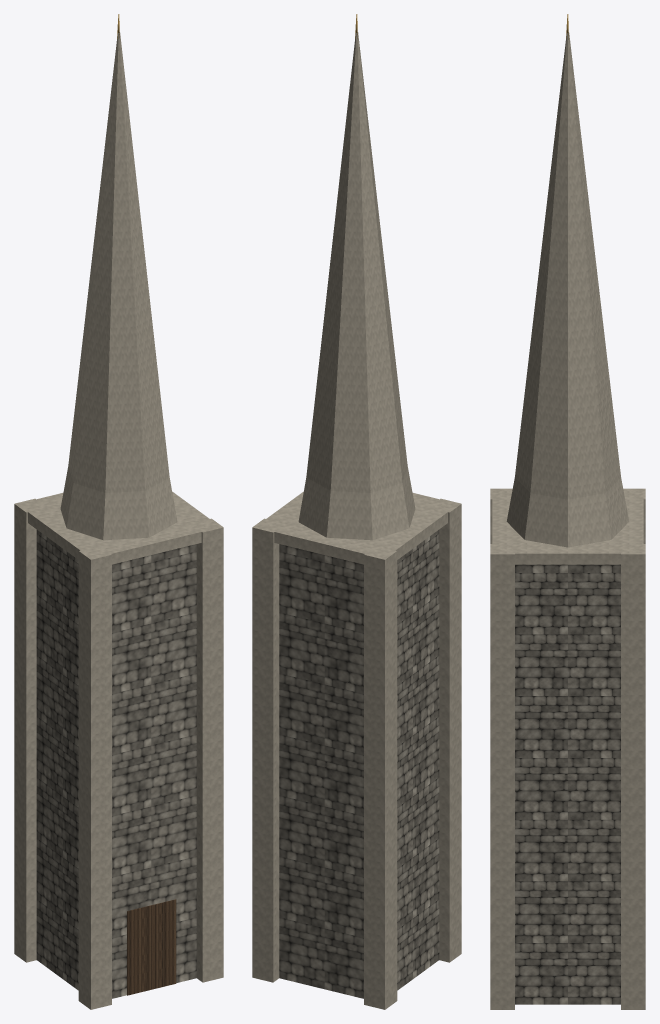
Rendered from Spire_Church_1_LOD2.gltf.
The picture shows the model from 3 angles, left to right: view 1: azimuth 30°, elevation 25°; view 2: azimuth 150°, elevation 25°; view 3: azimuth 270°, elevation 25°; orthographic projection.
Visible parts, largest first — view 1: Spire_Church_1_LOD2; view 2: Spire_Church_1_LOD2; view 3: Spire_Church_1_LOD2.
Part boxes in pixels (x1,y1,x2,y2): Spire_Church_1_LOD2: (14, 14, 223, 1009); Spire_Church_1_LOD2: (252, 14, 461, 1009); Spire_Church_1_LOD2: (490, 14, 645, 1009).
Size of the model in its own units: 7.6 by 52 by 7.6.
4 materials, 4 textured.
